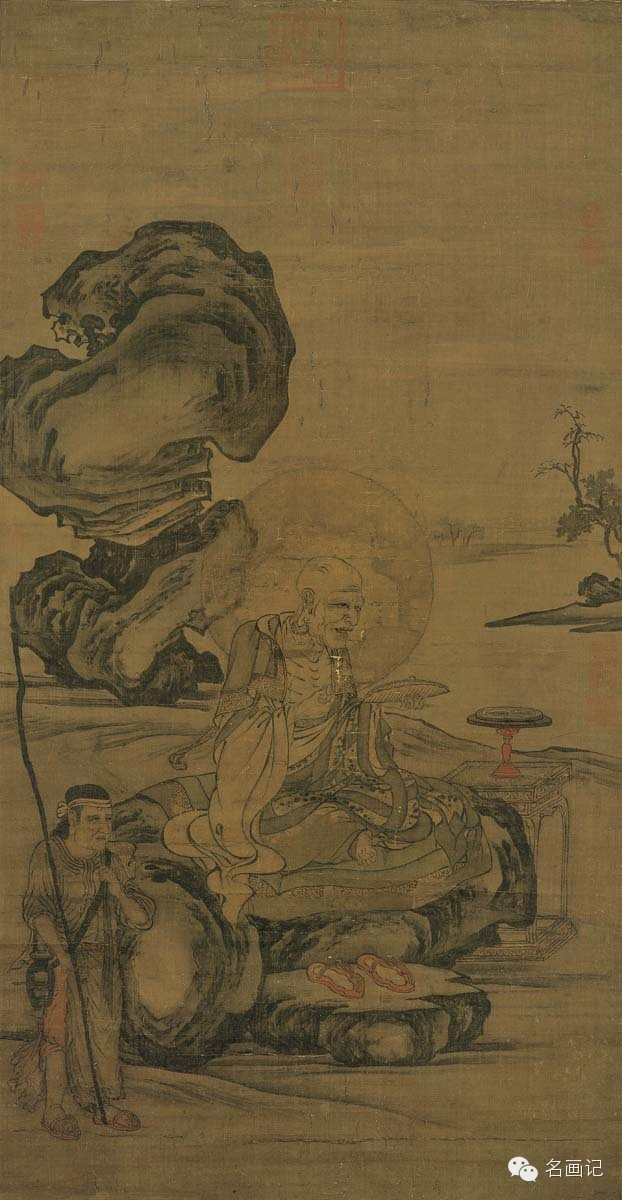man: (15, 779, 158, 1138)
monk: (192, 463, 439, 883)
table: (448, 696, 584, 980)
tree: (556, 413, 622, 560)
